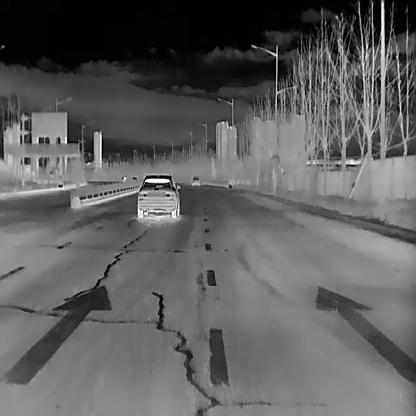car: (136, 173, 180, 219), (190, 174, 200, 184)
